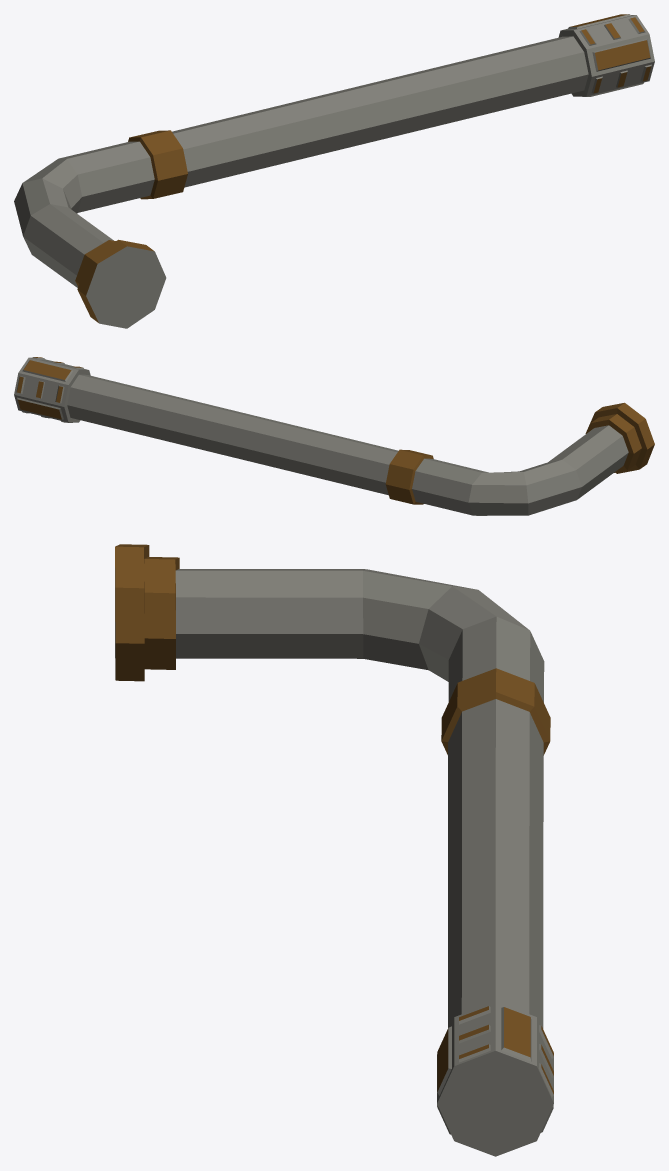
The model's file is pipeEnd.fbx.
3 renders of one model, top to bottom at view 1: azimuth 30°, elevation 25°; view 2: azimuth 150°, elevation 25°; view 3: azimuth 270°, elevation 25°, orthographic. The views are drawn at different scales.
Parts seen in each view (by area): view 1: Pipe - End; view 2: Pipe - End; view 3: Pipe - End.
Part boxes in pixels (bbox=[...]): Pipe - End: bbox=[14, 14, 654, 328]; Pipe - End: bbox=[14, 357, 654, 515]; Pipe - End: bbox=[115, 544, 553, 1156].
Bounding box in the file's own units: 216 × 77.27 × 25.63.
